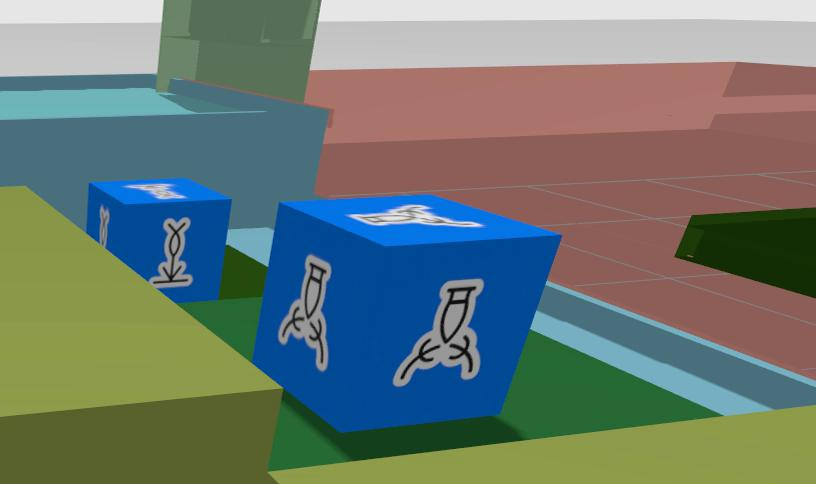KFS_REAL: (252, 195, 560, 432), (587, 279, 815, 369), (86, 178, 231, 301), (393, 279, 483, 385), (277, 255, 331, 368), (149, 218, 191, 287)
